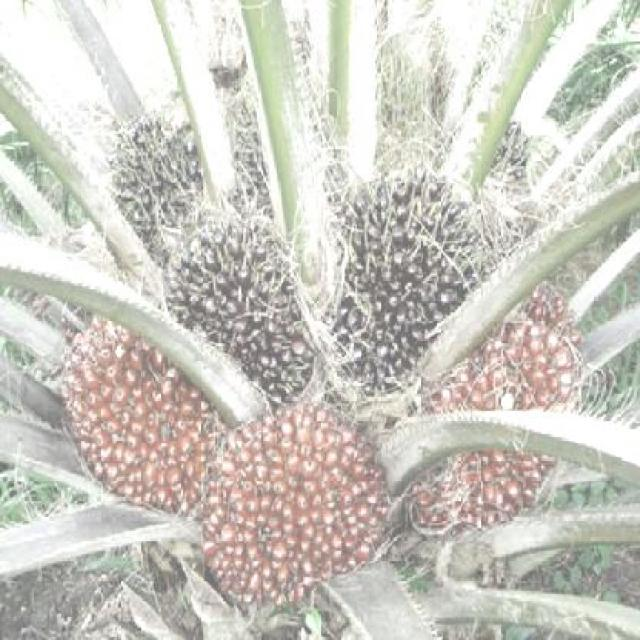palm-oil: (180, 423, 390, 598), (427, 301, 576, 543), (65, 297, 218, 511), (341, 165, 485, 389), (169, 214, 309, 382), (118, 119, 218, 245)
